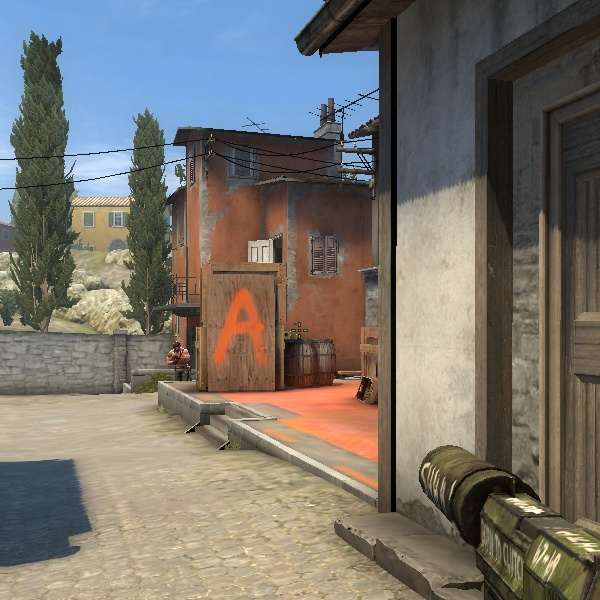t_body: (161, 337, 193, 381)
